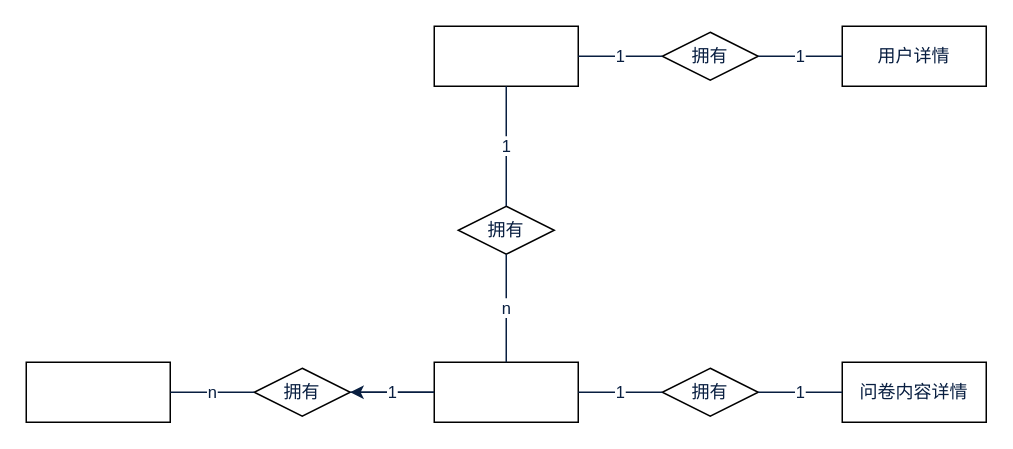
Image size: 1013x449. Some labels were removed from this diagram. The centre of each missing label's shape, as x and y in pixels:
用户: the point at 505,55
答卷: the point at 97,391
问卷: the point at 505,391
